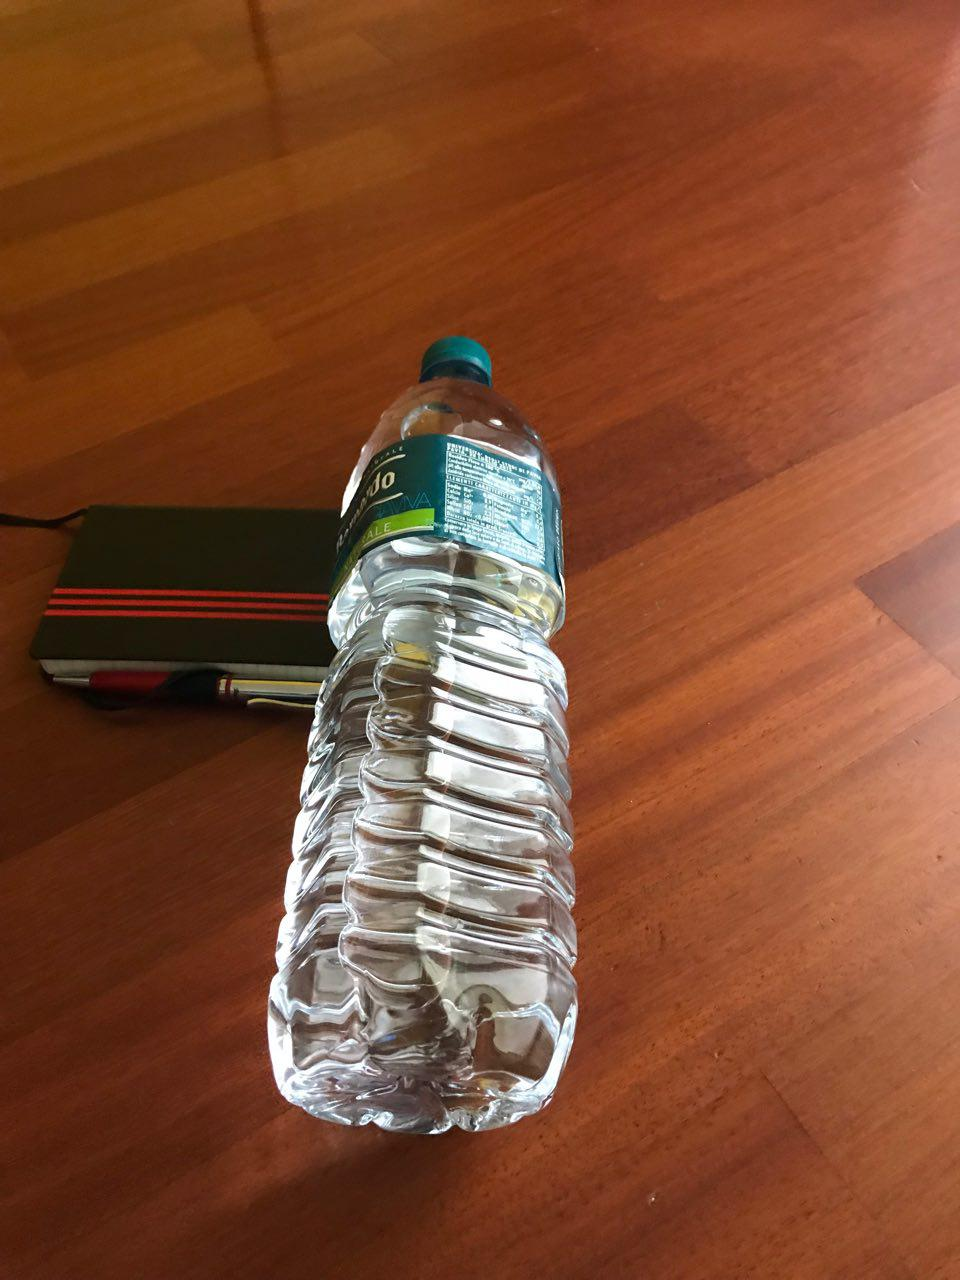san_bernardo: (261, 333, 582, 1138)
